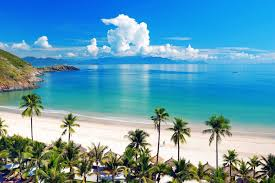beach: (25, 63, 274, 153)
sky: (4, 3, 275, 68)
tree: (14, 95, 48, 164), (55, 110, 89, 179), (120, 111, 154, 180), (151, 101, 185, 170), (203, 111, 237, 180)
